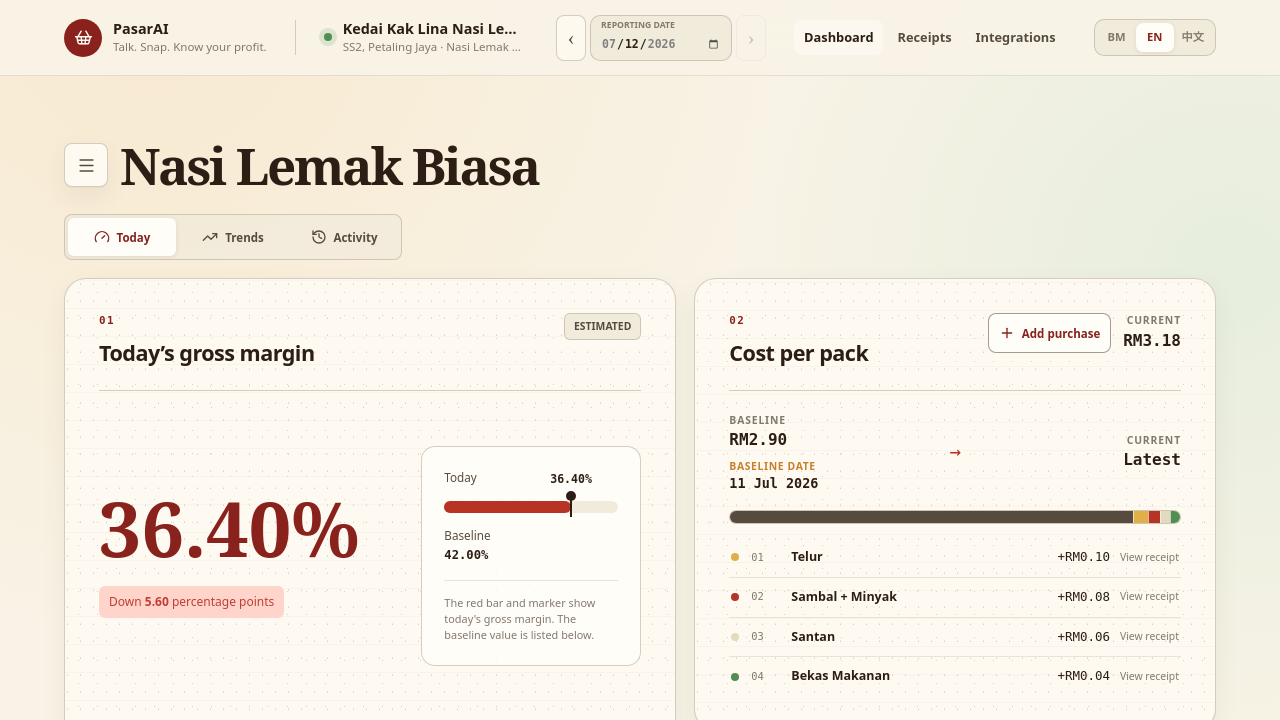
Scenario: deferred dashboard analytics › renders the summary first and loads activity when its tab opens
This screenshot has width=1280, height=720.
expect the heading "Nasi Lemak Biasa" is shown: met, box [120,140,539,190]
Click the tab "Activity". click: [344, 237]
box: [290,218,398,256]
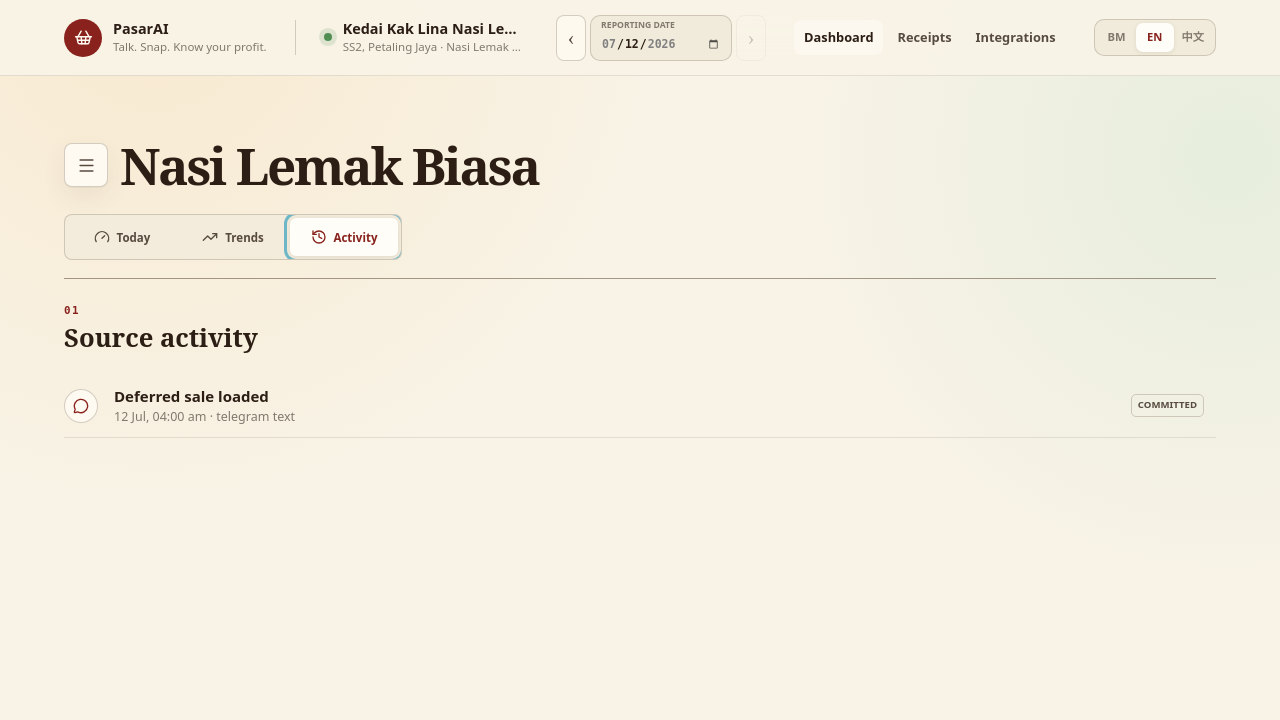
expect the text "Deferred sale loaded" is shown: met, box [114,386,269,406]
